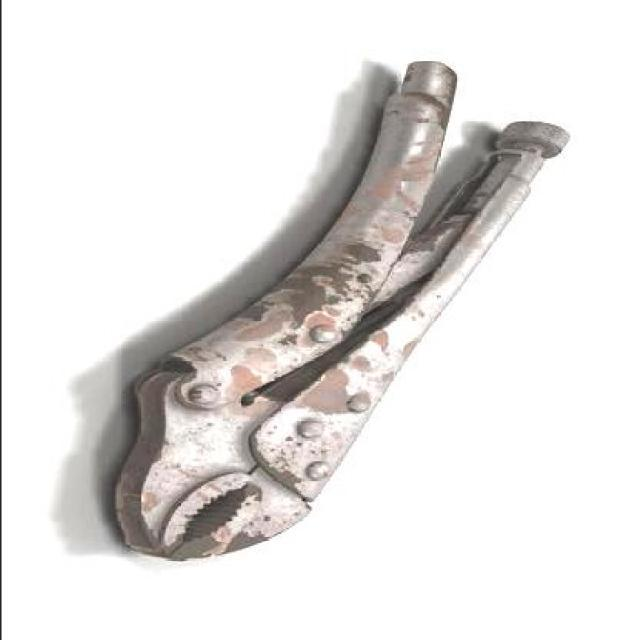pliers: (107, 53, 582, 559)
